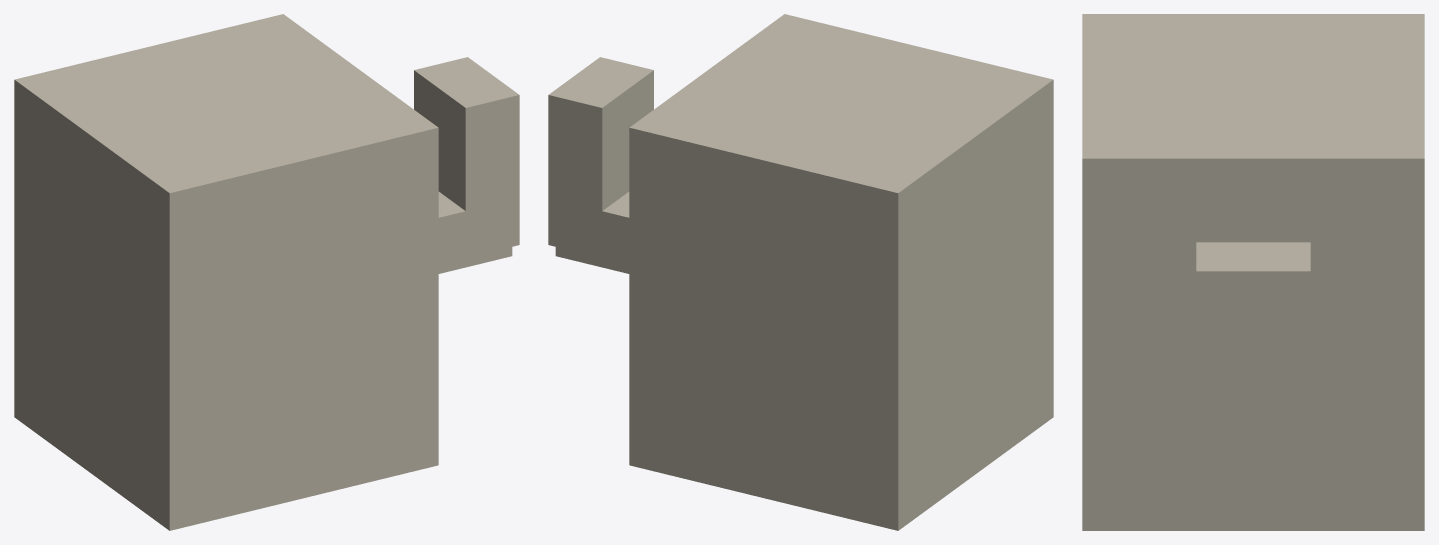
Rendered from mug.glb.
3 views of the same model, side by side, from view 1: azimuth 30°, elevation 25°; view 2: azimuth 150°, elevation 25°; view 3: azimuth 270°, elevation 25° (orthographic). The views are drawn at different scales.
Visible parts, largest first — view 1: body; view 2: body; view 3: body.
Part boxes in pixels (<box>): body: <box>14,14,519,530</box>; body: <box>548,14,1053,530</box>; body: <box>1082,14,1424,530</box>.
Bounding box in the file's own units: 0.112 × 0.09 × 0.075.
